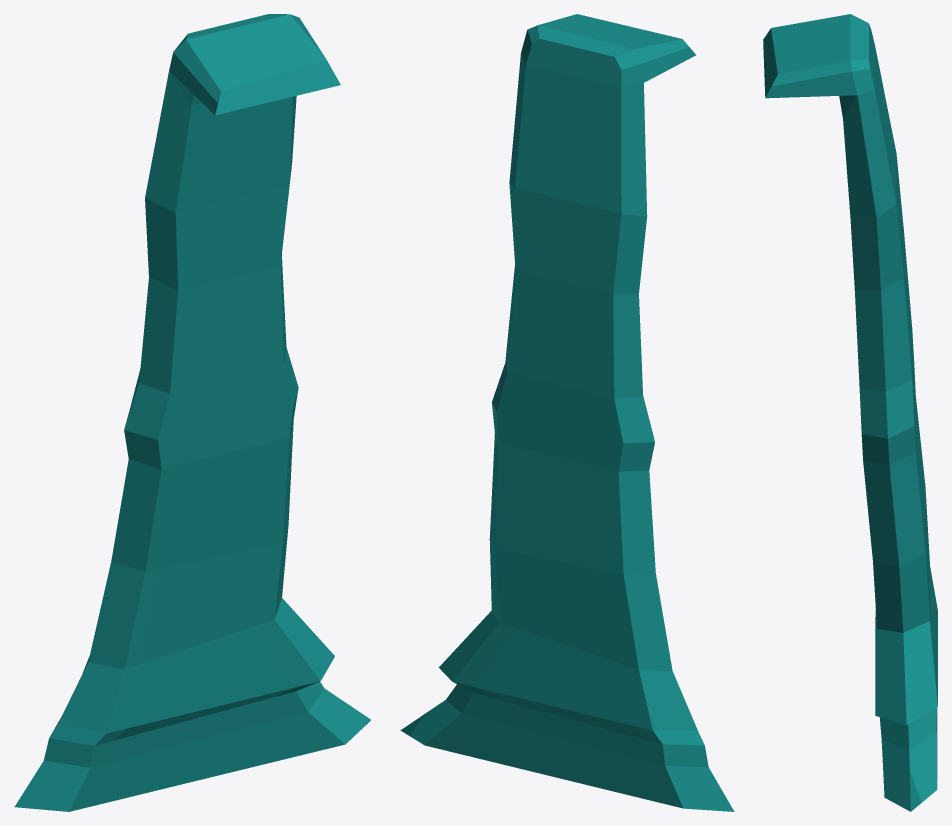
File: CascadaAnimada_000012.obj
3 renders of one model, left to right at view 1: azimuth 30°, elevation 25°; view 2: azimuth 150°, elevation 25°; view 3: azimuth 270°, elevation 25°, orthographic. The views are drawn at different scales.
Parts seen in each view (by area): view 1: Cube.053, Cube.054; view 2: Cube.053, Cube.054; view 3: Cube.053, Cube.054.
Boxes of the visible parts, x1=… form: Cube.053: x1=14, y1=14, x2=370, y2=811; Cube.054: x1=169, y1=14, x2=340, y2=115; Cube.053: x1=400, y1=25, x2=734, y2=811; Cube.054: x1=538, y1=14, x2=695, y2=82; Cube.053: x1=839, y1=14, x2=937, y2=811; Cube.054: x1=763, y1=14, x2=857, y2=98.
Bounding box in the file's own units: 136 × 277 × 62.45.
